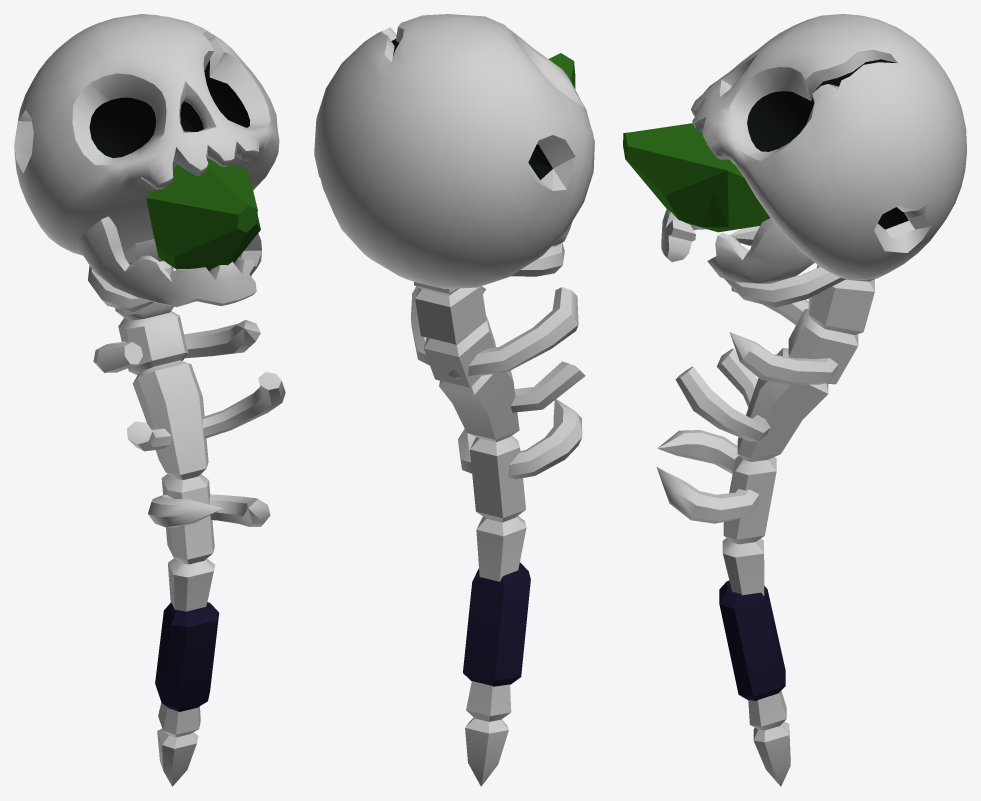
The model's file is skeleton_staff.obj.
3 renders of one model, left to right at view 1: azimuth 30°, elevation 25°; view 2: azimuth 150°, elevation 25°; view 3: azimuth 270°, elevation 25°, orthographic. The views are drawn at different scales.
Parts seen in each view (by area): view 1: skeleton_staff_Cube.7754; view 2: skeleton_staff_Cube.7754; view 3: skeleton_staff_Cube.7754.
Boxes of the visible parts, x1,y1,x2,y2 form: skeleton_staff_Cube.7754: (14, 14, 285, 786); skeleton_staff_Cube.7754: (314, 14, 594, 786); skeleton_staff_Cube.7754: (623, 14, 966, 786).
Bounding box in the file's own units: 0.5611 × 1.71 × 0.7022.
